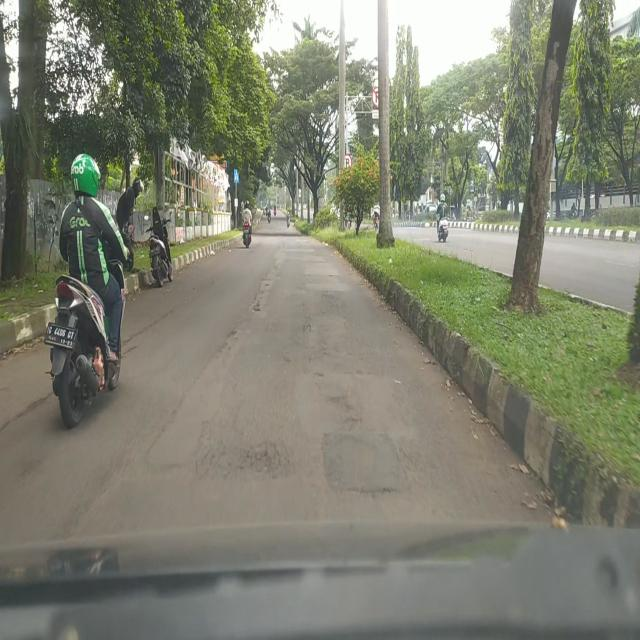Drain Hole: (195, 420, 296, 479)
